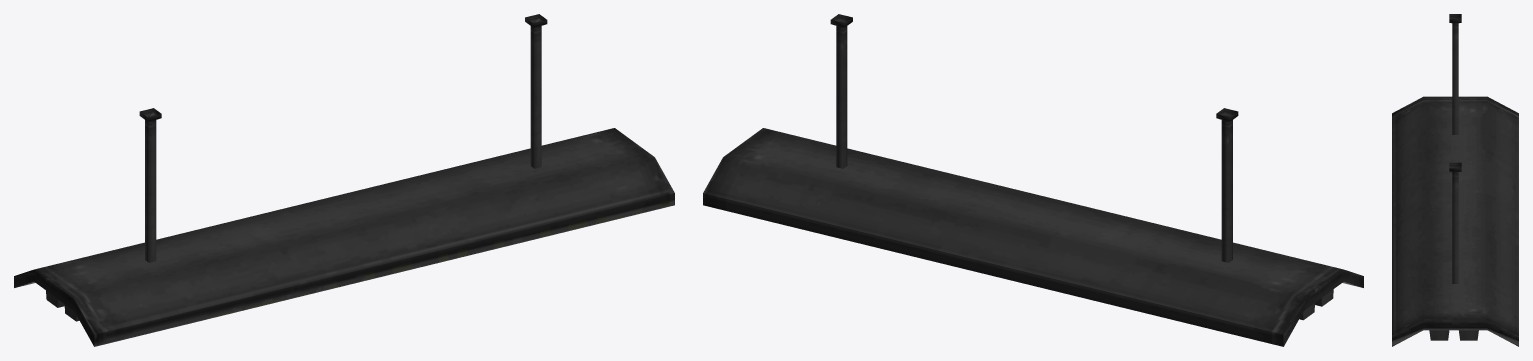
Rendered from Fluorescent_Light_1.fbx.
3 renders of one model, left to right at view 1: azimuth 30°, elevation 25°; view 2: azimuth 150°, elevation 25°; view 3: azimuth 270°, elevation 25°, orthographic. The views are drawn at different scales.
Visible parts, largest first — view 1: Fluorescent_Light_1; view 2: Fluorescent_Light_1; view 3: Fluorescent_Light_1.
Boxes of the visible parts, bbox=[...] form: Fluorescent_Light_1: bbox=[14, 14, 674, 346]; Fluorescent_Light_1: bbox=[703, 14, 1363, 346]; Fluorescent_Light_1: bbox=[1392, 14, 1518, 346].
Bounding box in the file's own units: 1.85 × 0.5533 × 0.444.
